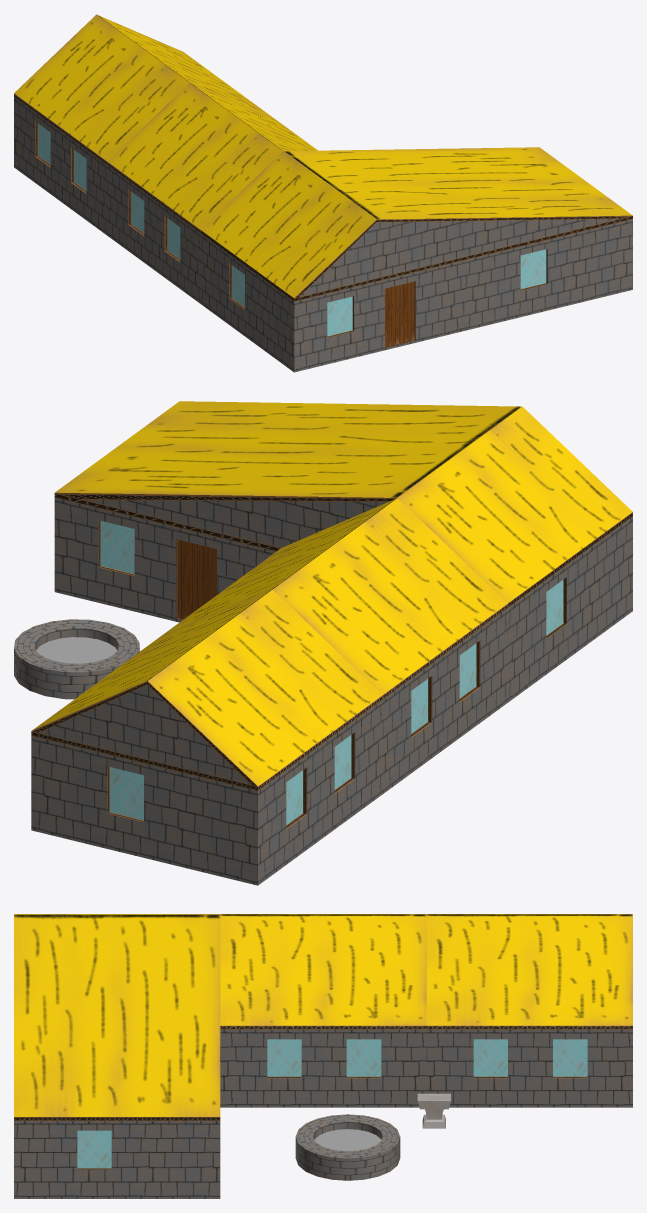
File: BlackSmith_v3.fbx
The picture shows the model from 3 angles, top to bottom: view 1: azimuth 30°, elevation 25°; view 2: azimuth 150°, elevation 25°; view 3: azimuth 270°, elevation 25°; orthographic projection. The views are drawn at different scales.
Visible parts, largest first — view 1: pCube13, pCube15, pCube12, pCube11, pCube3, pCube10, pasted__pCube6, pasted__pCube8; view 2: pCube13, pCube15, pCube12, pasted__pCube7, pCube8, pCube10, pasted__pCube6, pasted__pCube8, pPipe1, pPlane1; view 3: pCube13, pCube12, pCube15, pCube6, pCube7, pCube14, pPipe1, pPlane1, Anvil.
Boxes of the visible parts, x1,y1,x2,y2 form: pCube13: [200, 147, 632, 301]; pCube15: [14, 14, 275, 164]; pCube12: [107, 83, 317, 232]; pCube11: [294, 260, 463, 372]; pCube3: [463, 219, 632, 330]; pCube10: [200, 234, 294, 372]; pasted__pCube6: [107, 165, 200, 303]; pasted__pCube8: [14, 97, 107, 235]; pCube13: [54, 401, 632, 607]; pCube15: [31, 589, 382, 791]; pCube12: [157, 498, 507, 699]; pasted__pCube7: [31, 736, 257, 885]; pCube8: [54, 498, 275, 622]; pCube10: [508, 517, 632, 702]; pasted__pCube6: [383, 608, 507, 793]; pasted__pCube8: [258, 700, 382, 885]; pPipe1: [14, 619, 139, 699]; pPlane1: [36, 637, 117, 663]; pCube13: [14, 914, 220, 1120]; pCube12: [220, 914, 426, 1029]; pCube15: [426, 914, 632, 1029]; pCube6: [220, 1029, 426, 1107]; pCube7: [14, 1121, 220, 1198]; pCube14: [426, 1029, 632, 1107]; pPipe1: [295, 1114, 400, 1180]; pPlane1: [314, 1129, 381, 1151]; Anvil: [417, 1093, 450, 1128].
Bounding box in the file's own units: 12.57 × 4.71 × 18.
